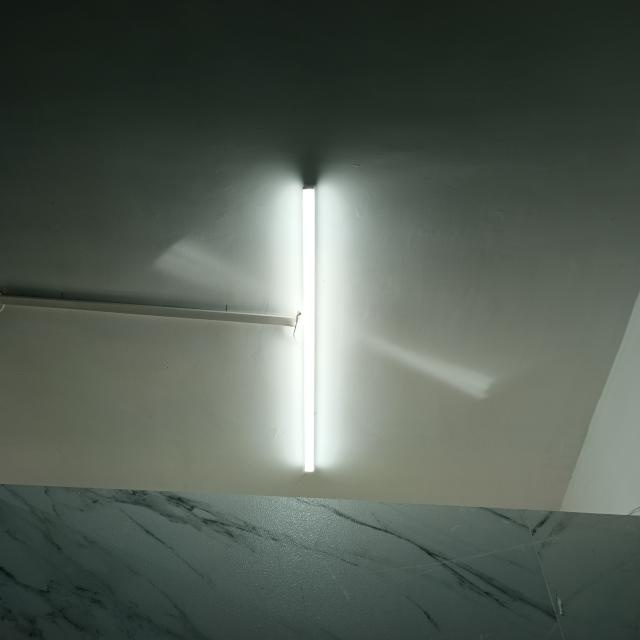fluorescent tube: (269, 168, 337, 481)
